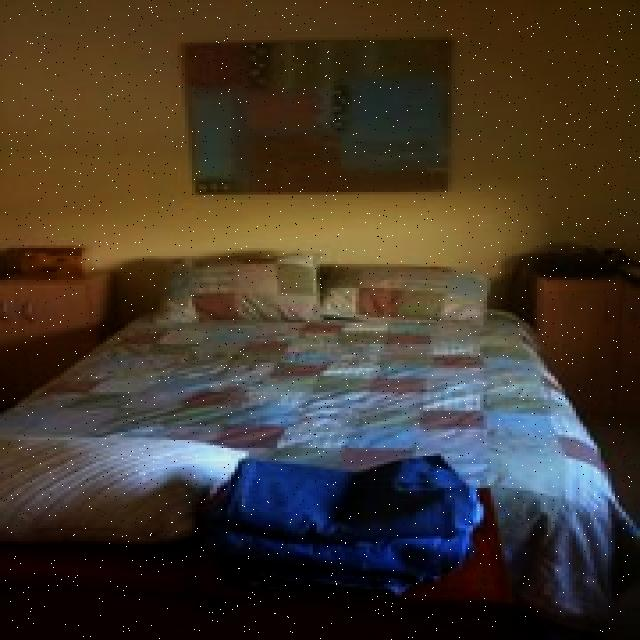bed: (19, 249, 572, 572)
